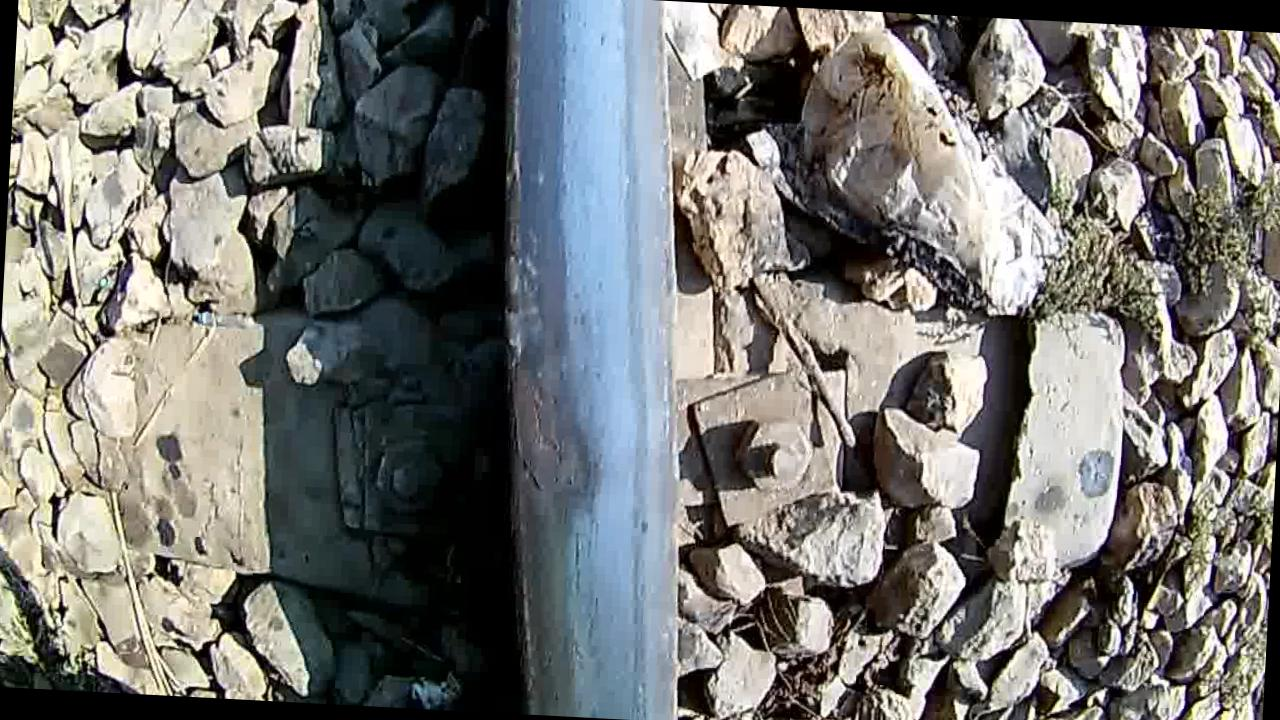bolt_missing: (496, 378, 662, 578)
